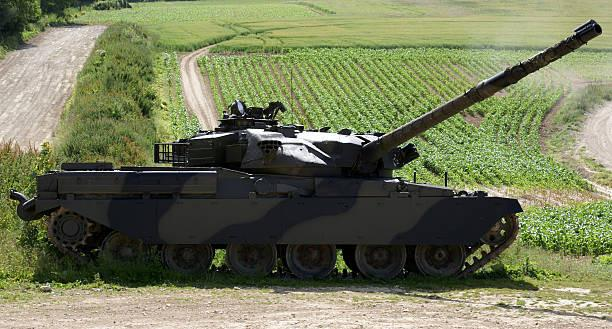tank: (7, 17, 605, 285)
